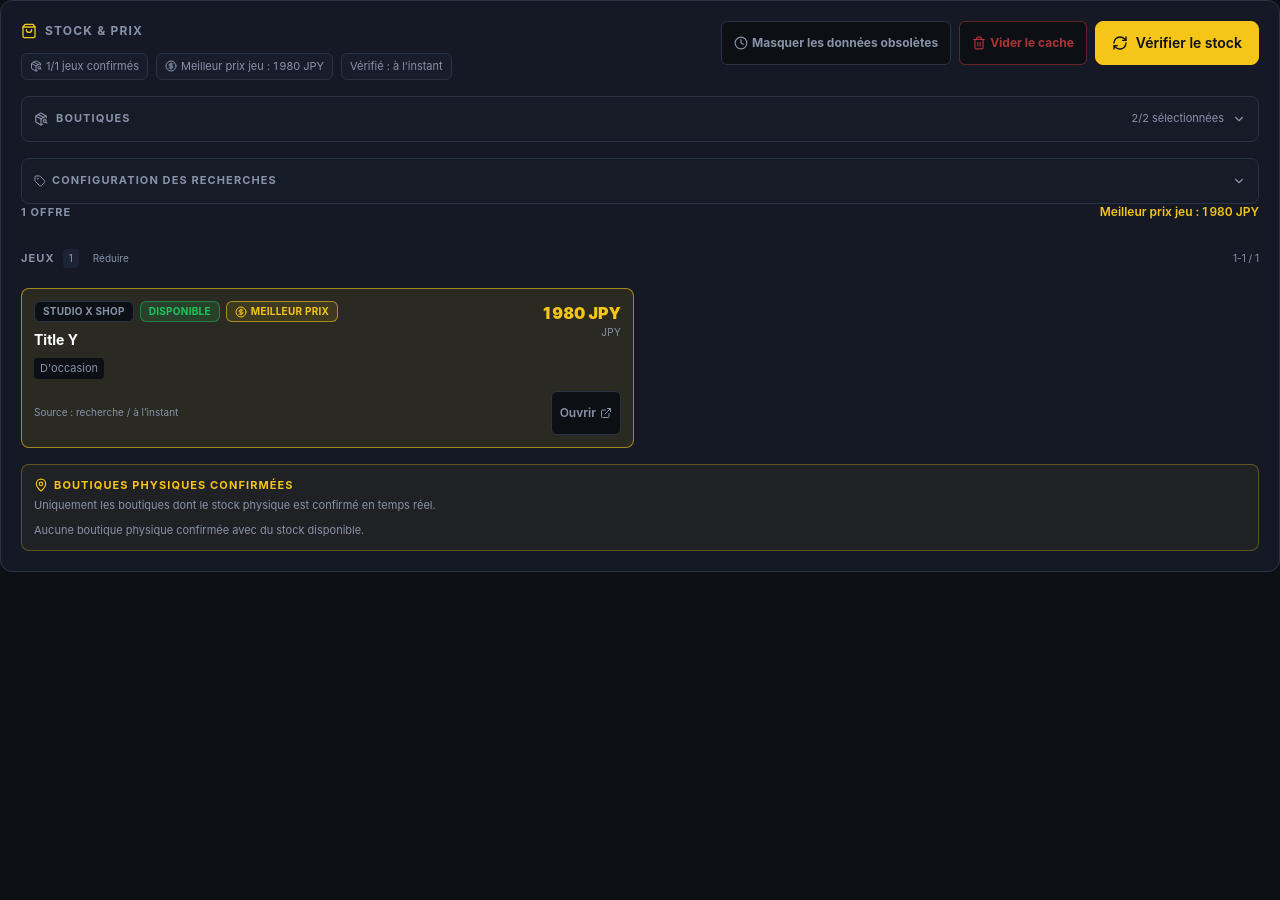
Test: StockPanel › selects the physical provider group from provider setup
Click the text "Boutiques".
click(93, 118)  # box [56,111,131,125]
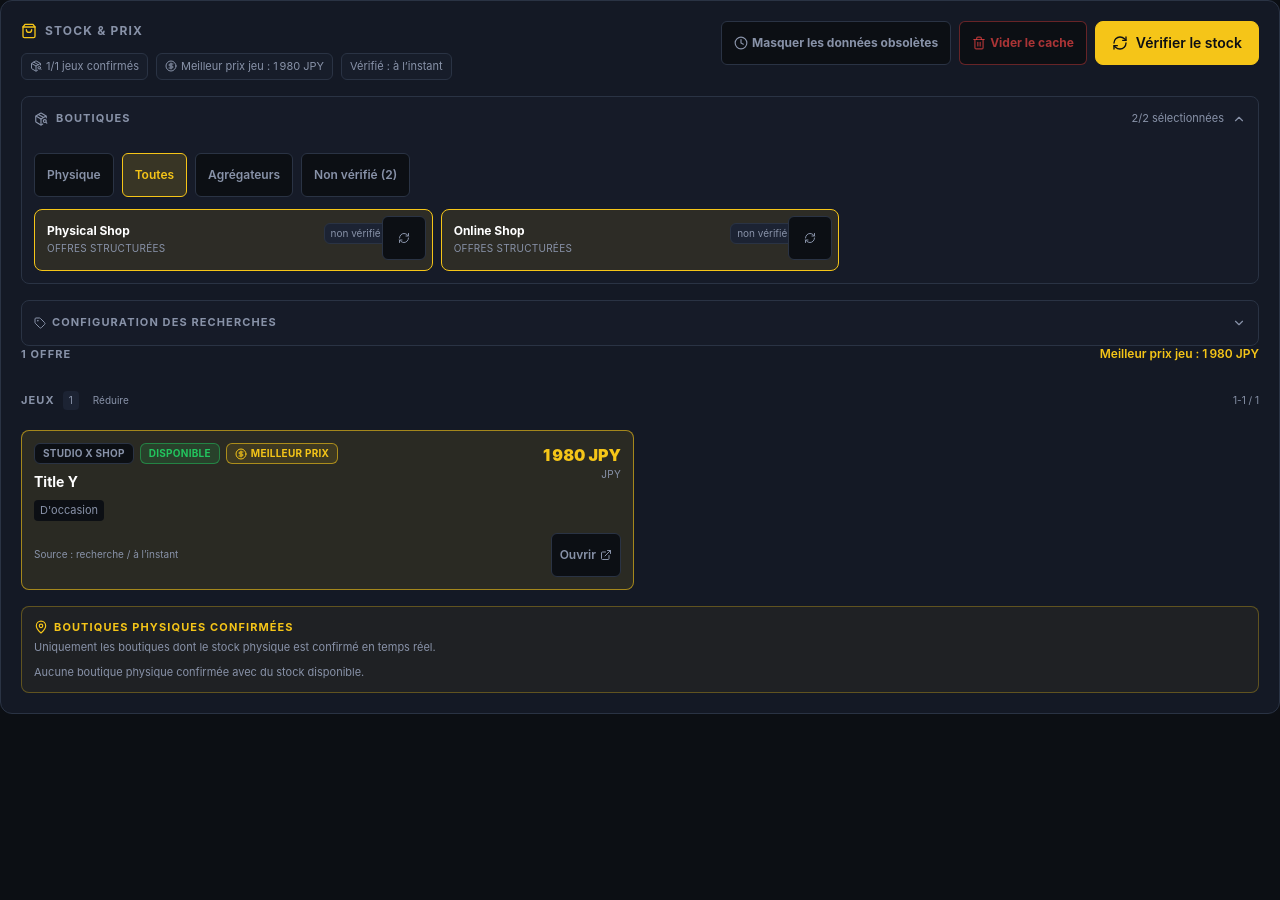
Click the button "Physique".
click(74, 174)  # box [34,152,114,196]
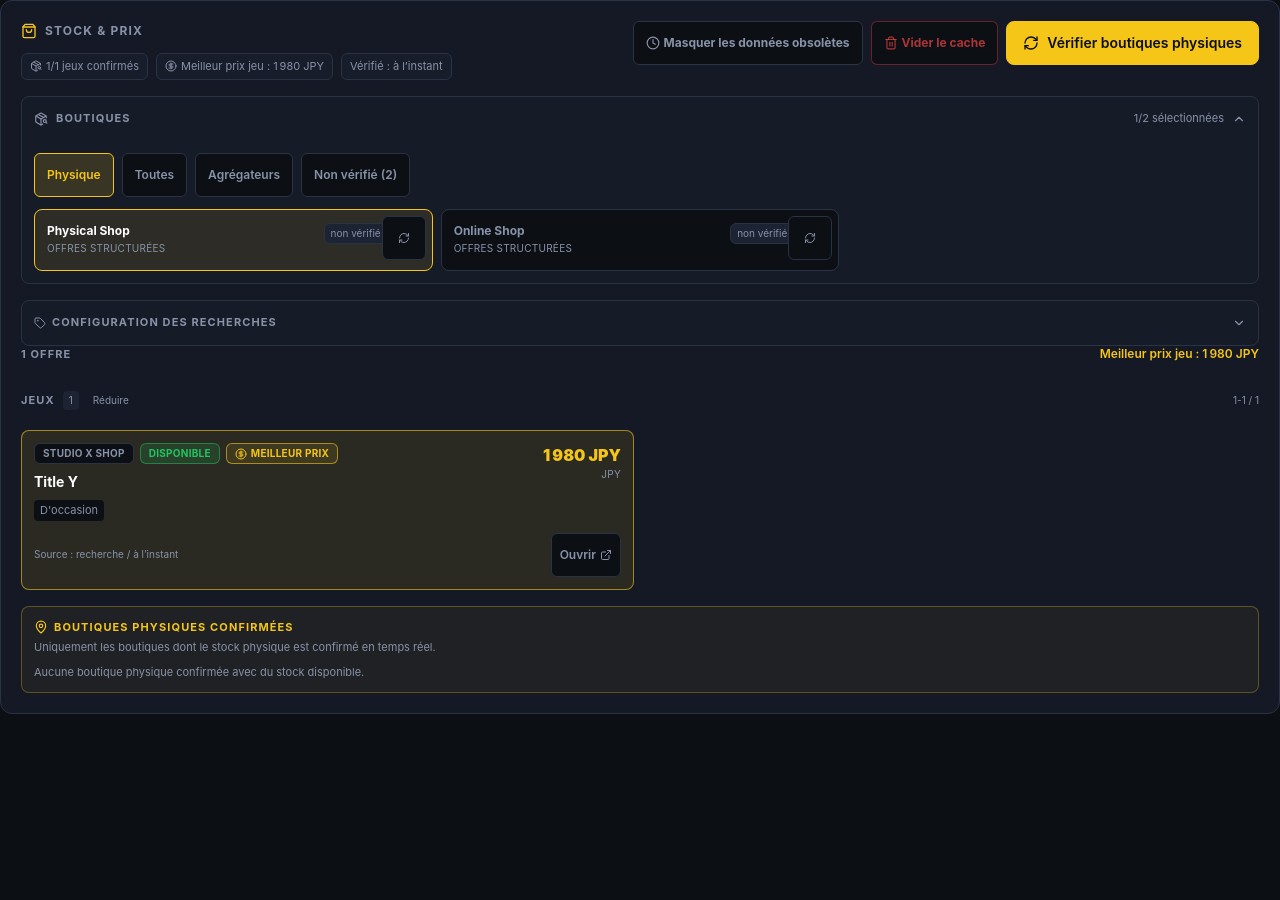
Result: the button "Vérifier boutiques physiques" is shown at [1006,21,1259,65]
